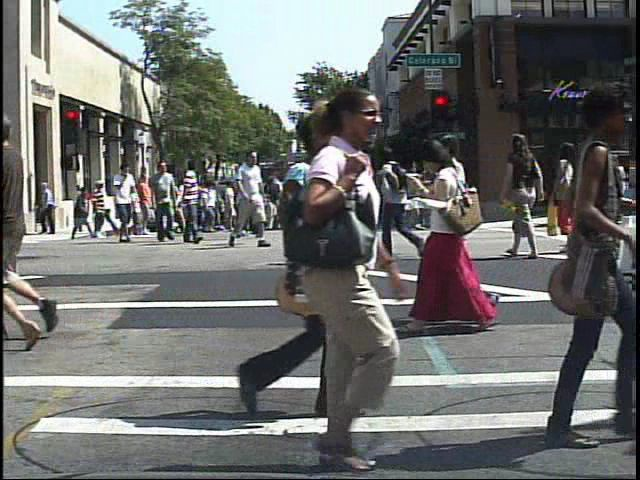person: (228, 83, 425, 480), (519, 79, 635, 463), (6, 102, 94, 345), (410, 133, 500, 337), (329, 135, 386, 270), (447, 127, 481, 342), (379, 141, 429, 265), (501, 132, 548, 260), (549, 137, 592, 260), (602, 145, 635, 249), (230, 147, 261, 252), (148, 157, 181, 245), (174, 157, 205, 247), (110, 161, 138, 244), (383, 164, 408, 236), (86, 177, 111, 241), (78, 182, 98, 230)
